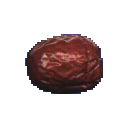ng: (19, 29, 110, 99)
